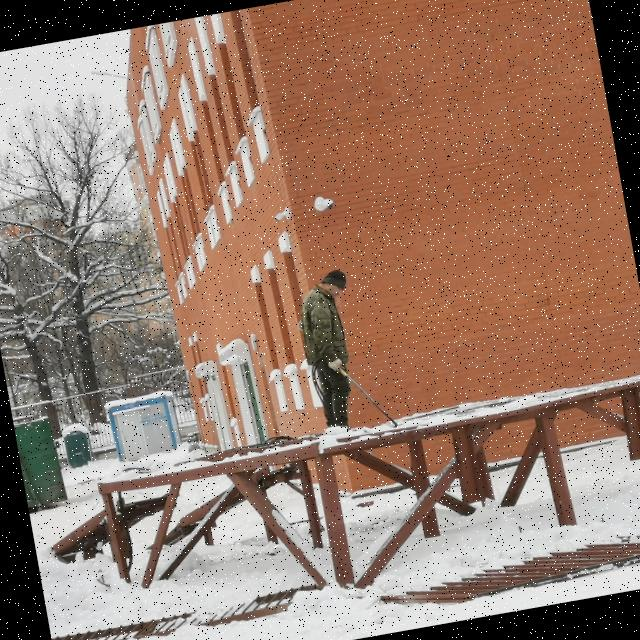NoHelmet: (315, 266, 352, 304)
